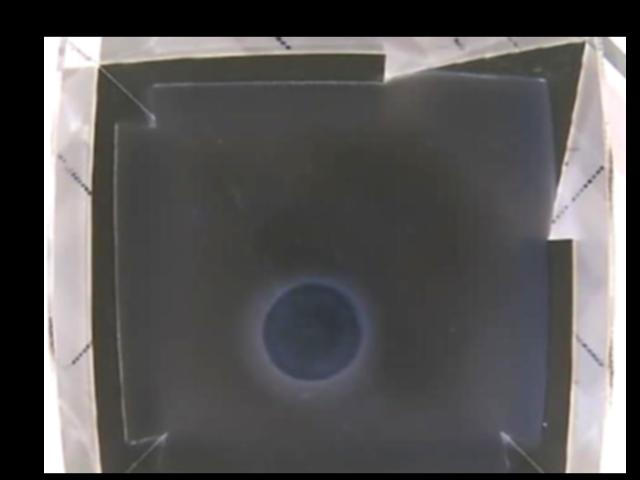Mooli: (260, 279, 367, 382)
